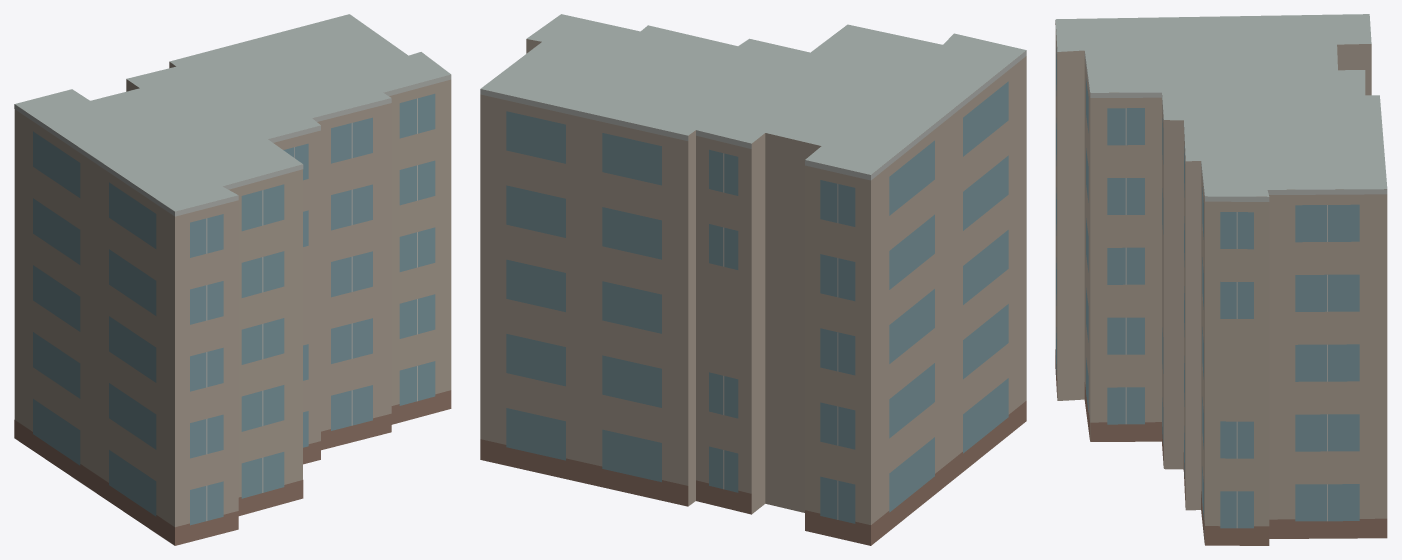
The model's file is survey-upis-32994834.glb.
3 views of the same model, side by side, from view 1: azimuth 30°, elevation 25°; view 2: azimuth 150°, elevation 25°; view 3: azimuth 270°, elevation 25° (orthographic). The views are drawn at different scales.
Parts seen in each view (by area): view 1: survey-upis-32994834.tmp; view 2: survey-upis-32994834.tmp; view 3: survey-upis-32994834.tmp.
Part boxes in pixels (x1,y1,x2,y2): survey-upis-32994834.tmp: (14, 14, 451, 545); survey-upis-32994834.tmp: (480, 14, 1026, 545); survey-upis-32994834.tmp: (1055, 14, 1387, 545).
Bounding box in the file's own units: 18.31 × 16.3 × 14.05.
